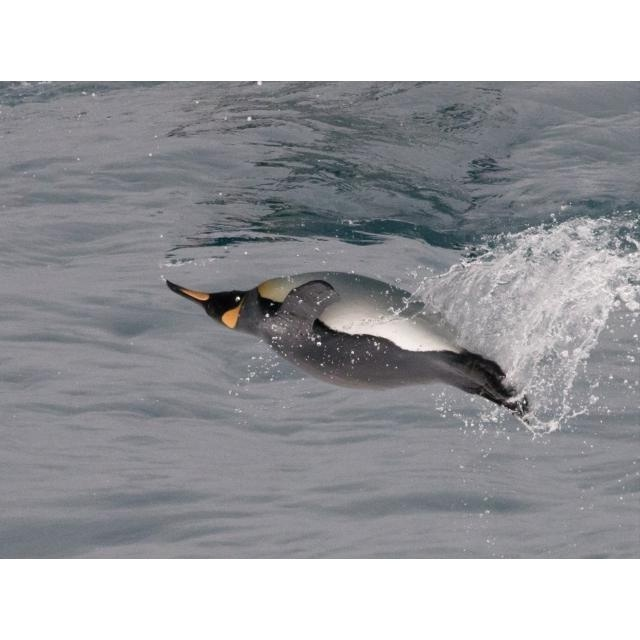penguin: (163, 270, 529, 418)
